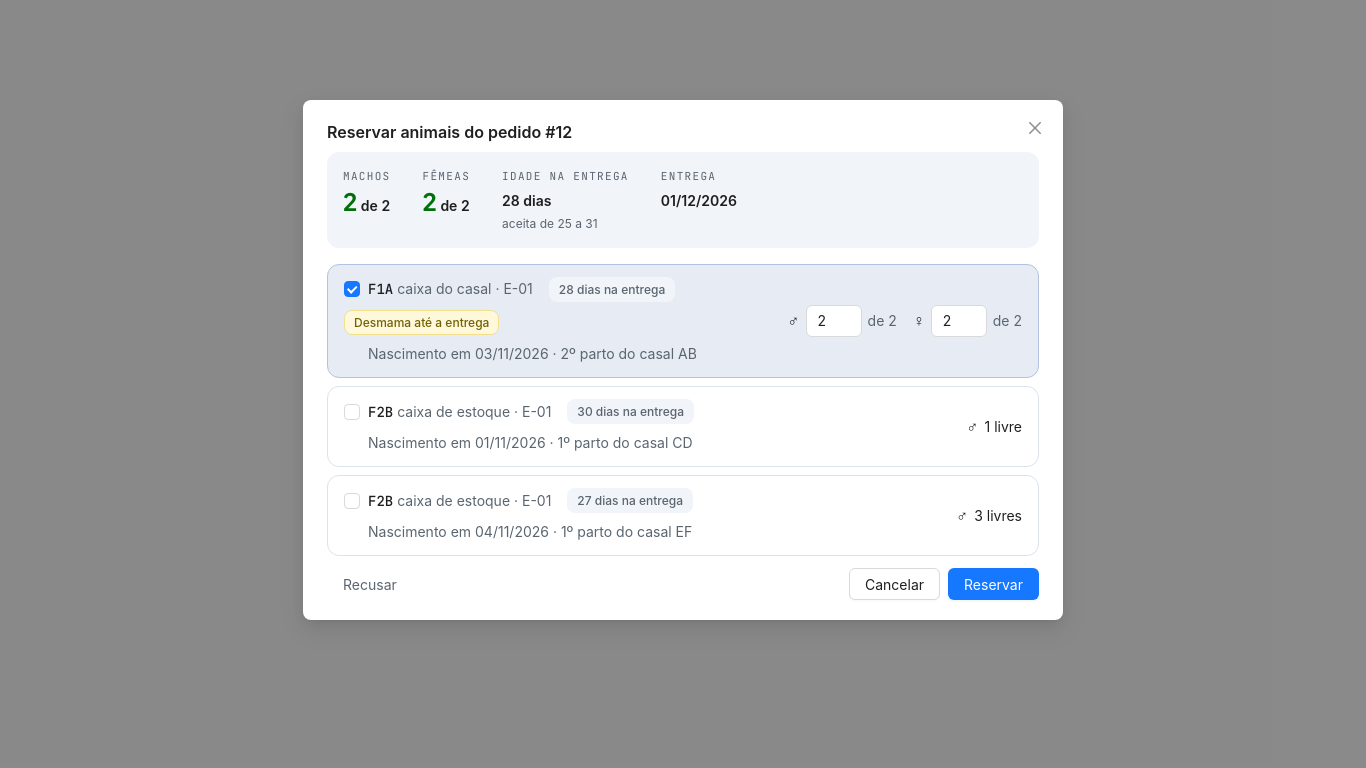
reservar os animais do pedido aprovado › o pedido que aguarda análise se reserva inteiro, e a mensagem diz que ficou aprovado
Expected: the text "Reservar animais do pedido #12" is shown, [327,122,572,142]
Expected: the element showing "2 de 2" below "Machos" is shown, [343,185,390,222]
What coordinates should you click on to do the following:
click the button "Reservar"
I would click on:
 (994, 584)
Its box is [948,568,1039,600].
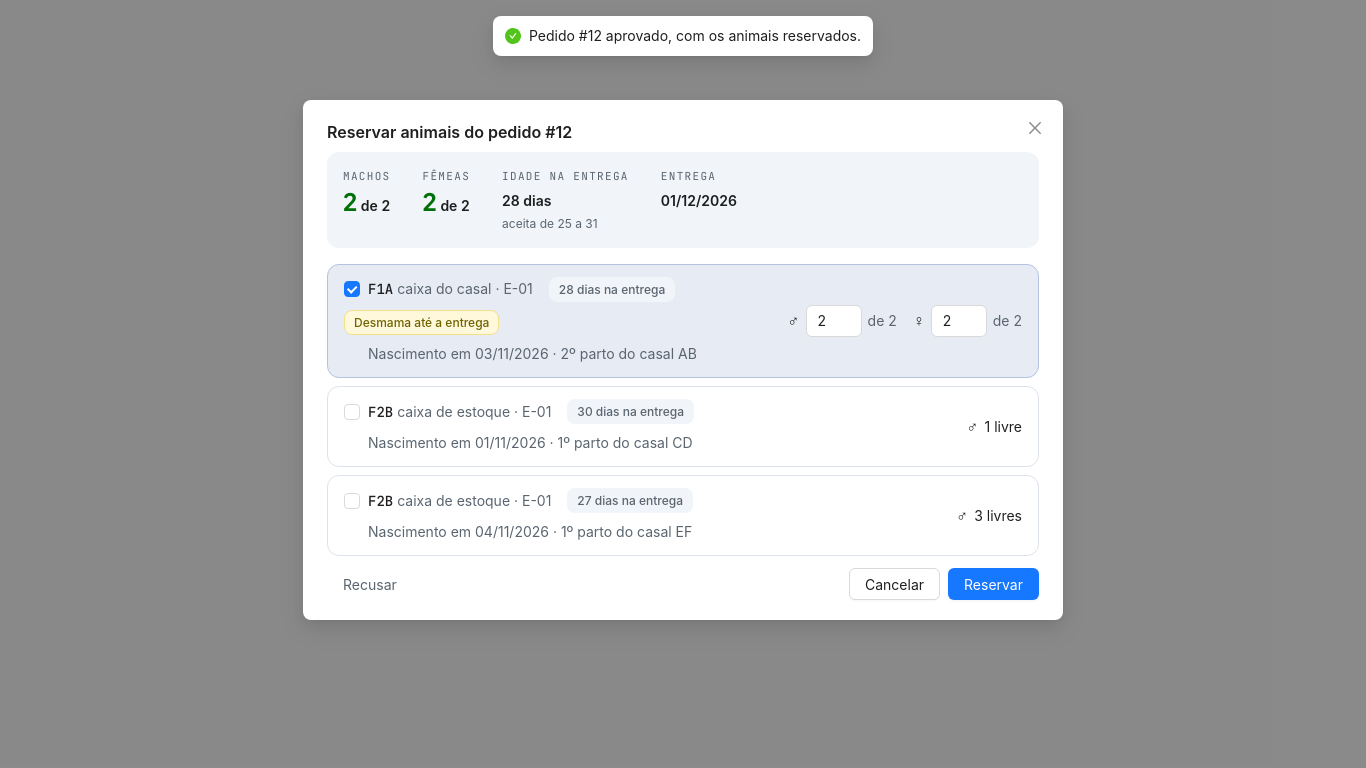
Expected: the text "Pedido #12 aprovado, com os animais reservados." is shown, [529,25,861,47]
